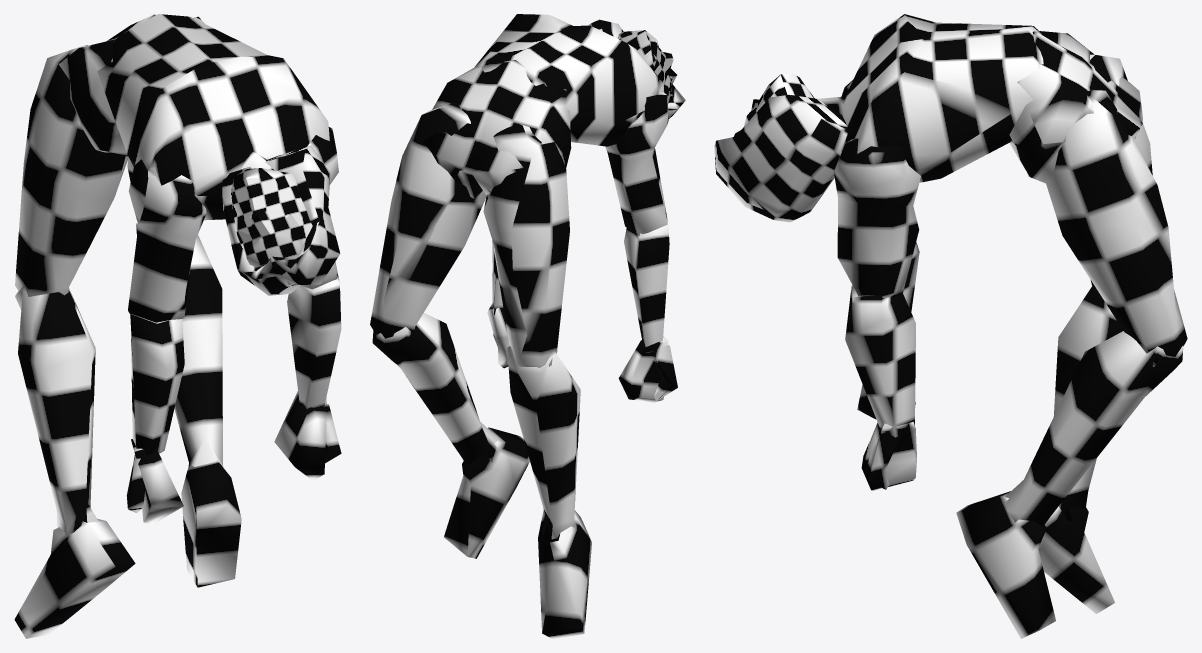
The model's file is stst138.dae.
3 renders of one model, left to right at view 1: azimuth 30°, elevation 25°; view 2: azimuth 150°, elevation 25°; view 3: azimuth 270°, elevation 25°, orthographic. The views are drawn at different scales.
Visible parts, largest first — view 1: man05; view 2: man05; view 3: man05.
Part boxes in pixels (x1,y1,x2,y2): man05: (14,14,341,638); man05: (370,14,685,638); man05: (714,14,1187,638).
Bounding box in the file's own units: 0.3234 × 0.6288 × 0.9121.
Materials: 1 (1 with a texture image).
